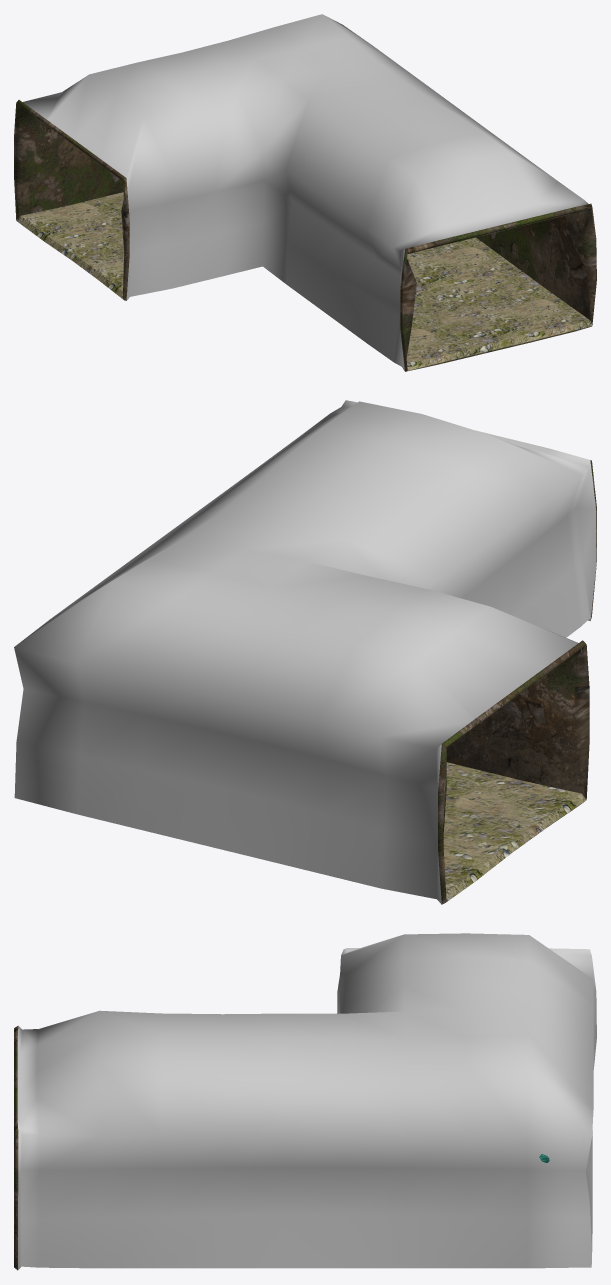
Rendered from passage_east_gallery.obj.
3 renders of one model, top to bottom at view 1: azimuth 30°, elevation 25°; view 2: azimuth 150°, elevation 25°; view 3: azimuth 270°, elevation 25°, orthographic. The views are drawn at different scales.
Parts seen in each view (by area): view 1: Passage_east_gallery; view 2: Passage_east_gallery; view 3: Passage_east_gallery.
Boxes of the visible parts, x1,y1,x2,y2 form: Passage_east_gallery: (14, 14, 596, 371); Passage_east_gallery: (14, 400, 596, 904); Passage_east_gallery: (14, 933, 596, 1270).
Bounding box in the file's own units: 689 × 324 × 917.
